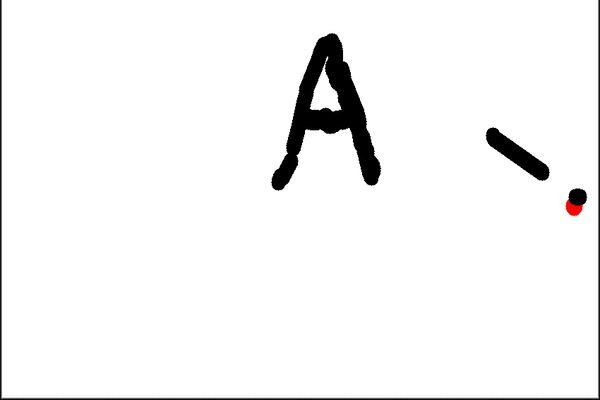A: (264, 27, 388, 191)
